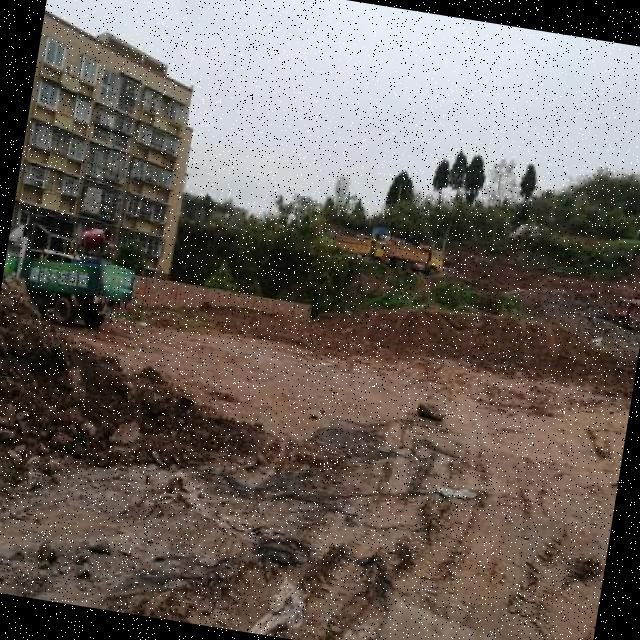Dump Truck: (0, 218, 143, 341), (388, 238, 448, 280), (328, 230, 383, 266)
